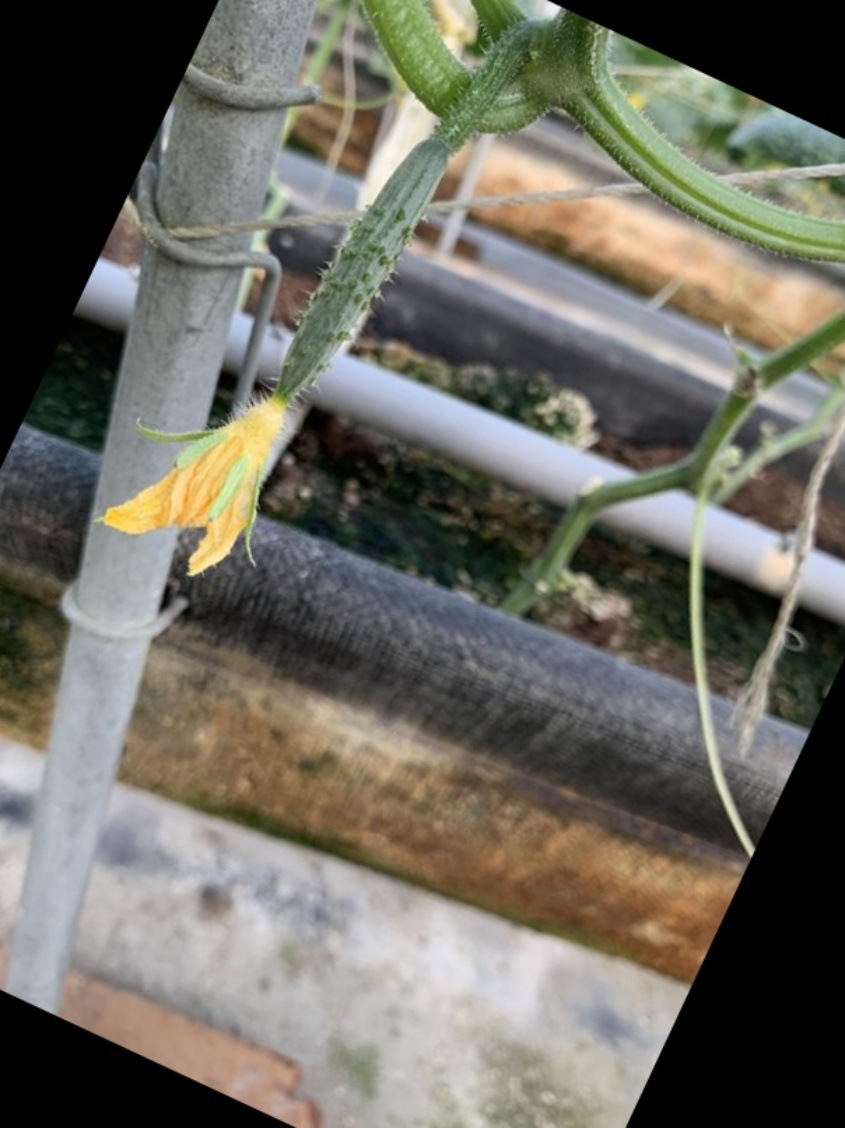bear: (75, 9, 474, 594)
